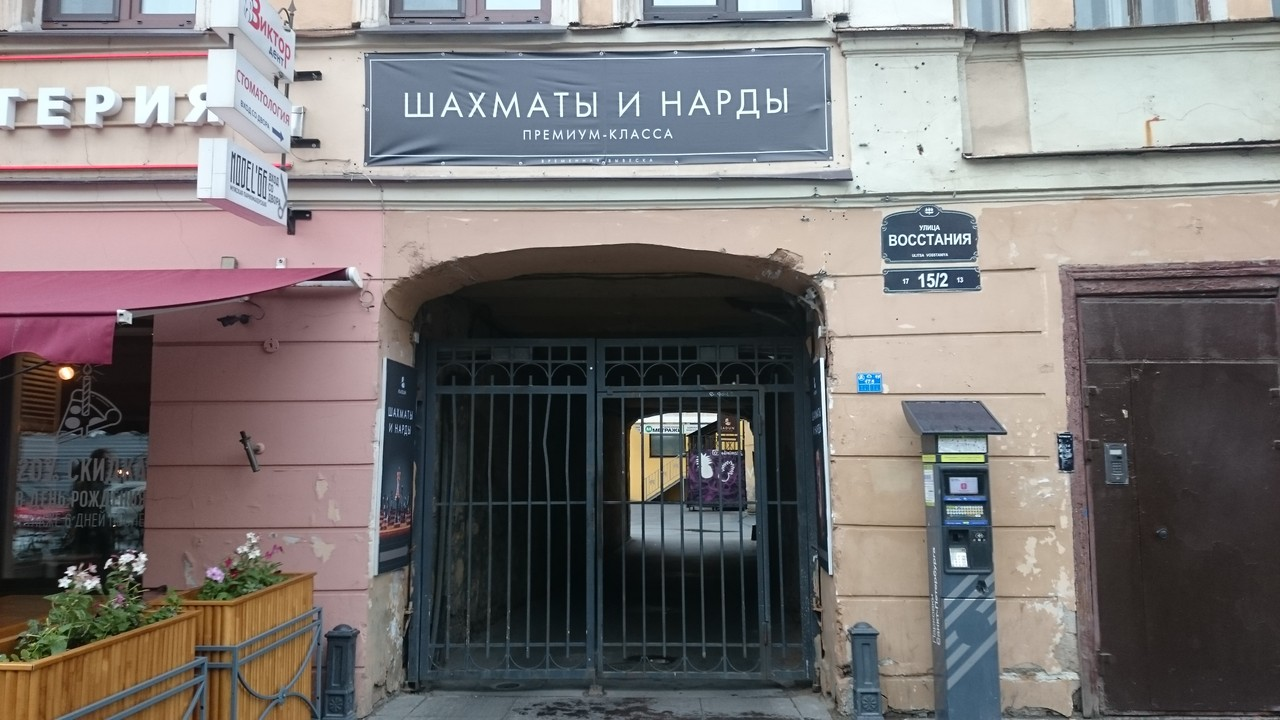arch: (382, 237, 840, 704)
cantilever: (197, 2, 330, 235)
signboard: (359, 50, 836, 163)
